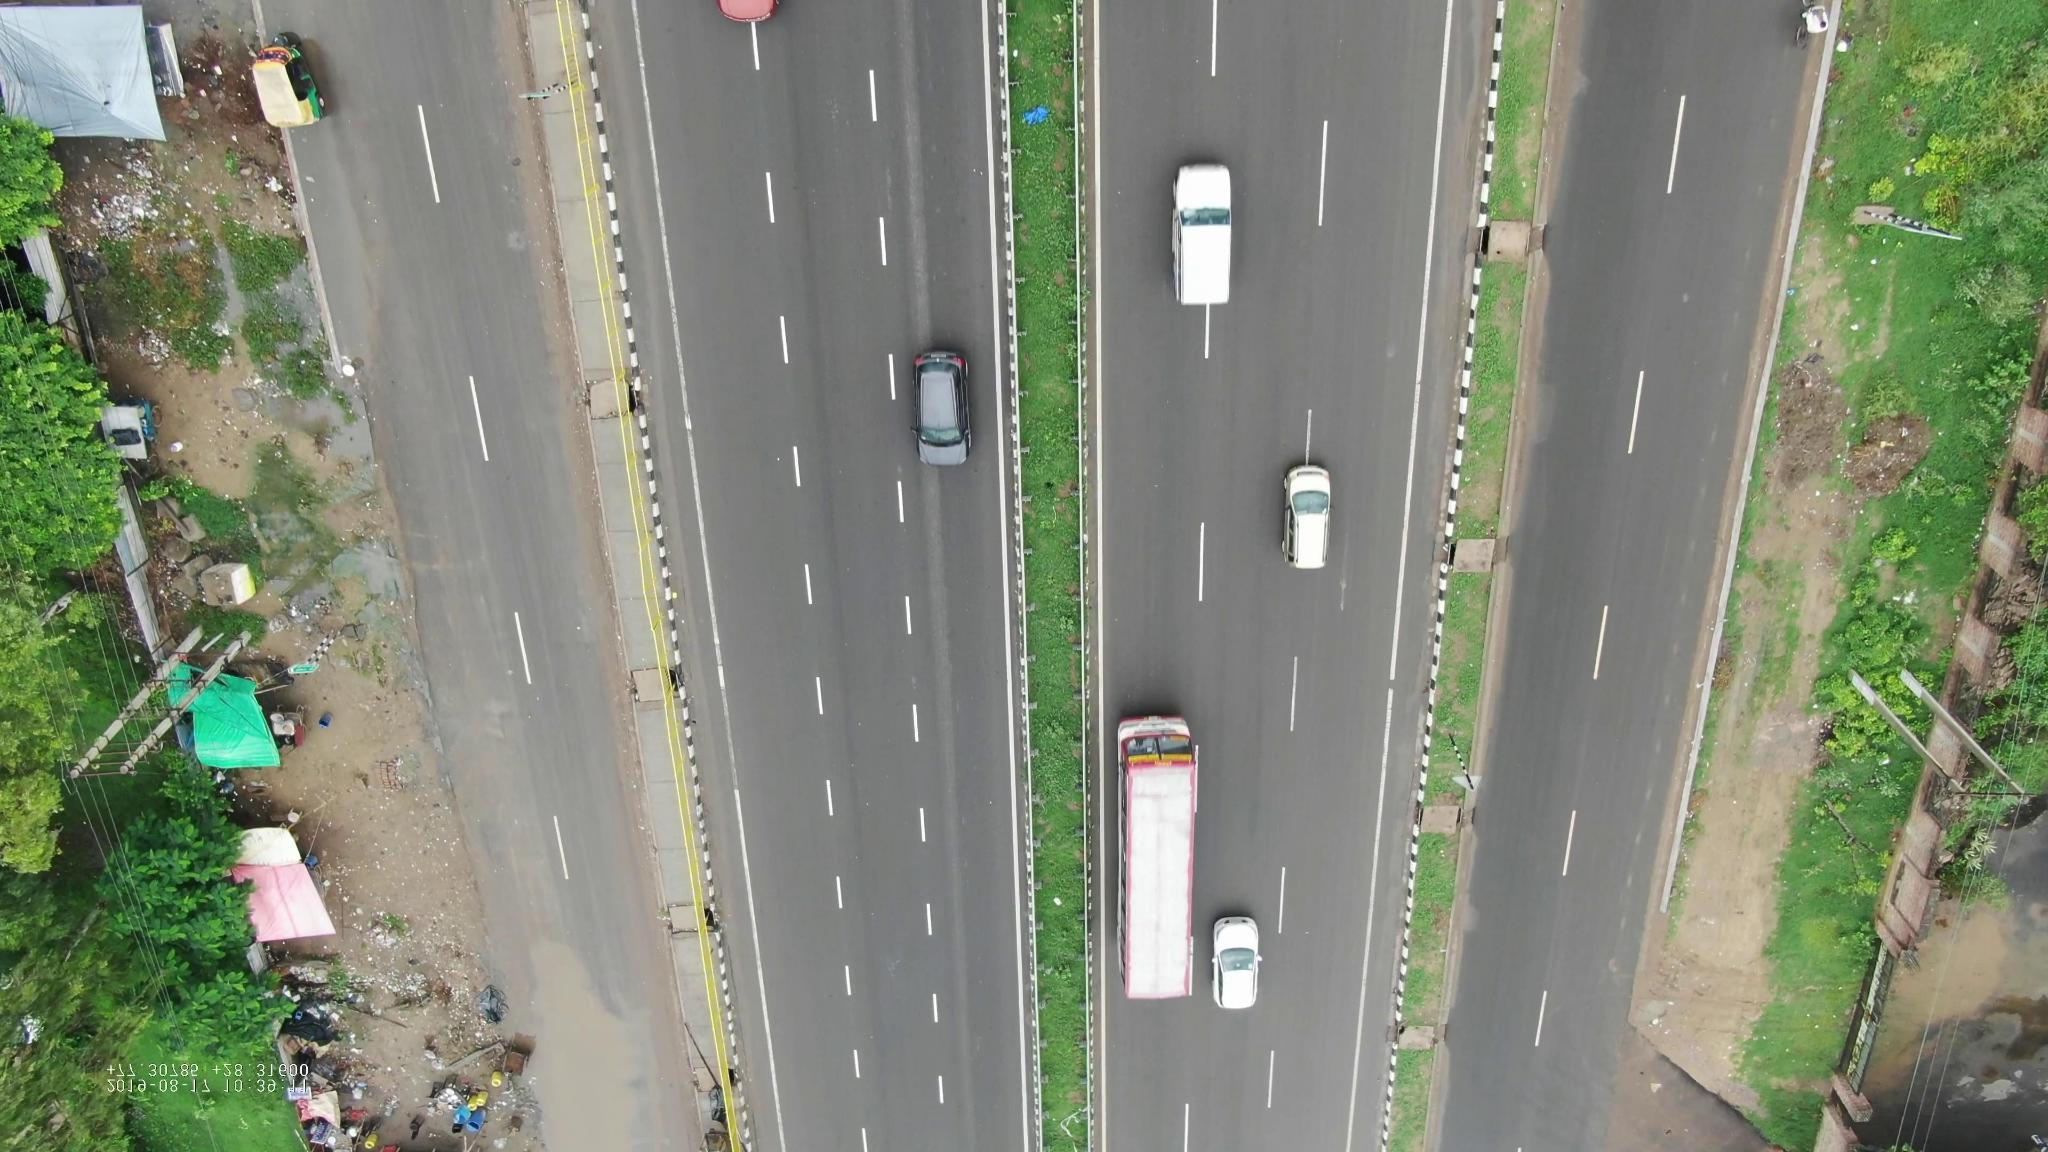Potholes: (1672, 371, 1733, 587), (1611, 745, 1674, 899), (1644, 591, 1706, 745), (1722, 183, 1767, 359), (1596, 886, 1636, 1014), (463, 684, 527, 760)
